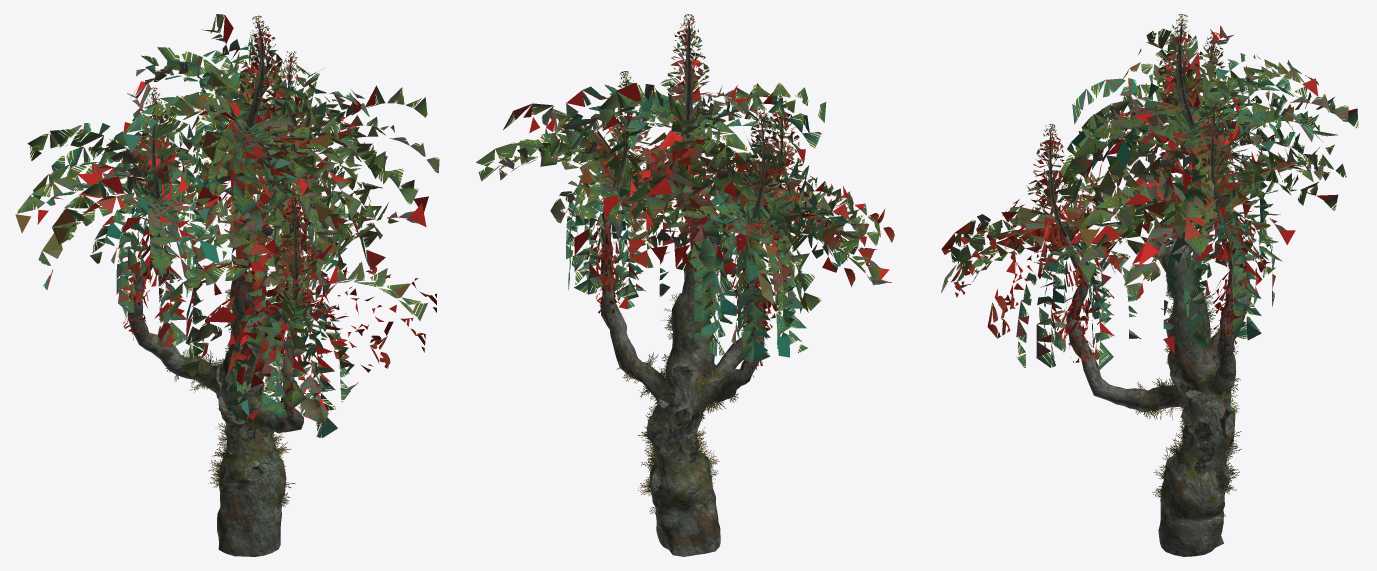
File: Plant - Alien Plant 12-D6auY3w2.glb
The picture shows the model from 3 angles, left to right: view 1: azimuth 30°, elevation 25°; view 2: azimuth 150°, elevation 25°; view 3: azimuth 270°, elevation 25°; orthographic projection.
Visible parts, largest first — view 1: Plant12(Clone), Plant12_moss(Clone); view 2: Plant12(Clone), Plant12_moss(Clone); view 3: Plant12(Clone), Plant12_moss(Clone).
Part boxes in pixels (x1,y1,x2,y2): Plant12(Clone): (15, 14, 439, 556); Plant12_moss(Clone): (165, 289, 295, 506); Plant12(Clone): (476, 14, 894, 556); Plant12_moss(Clone): (616, 291, 738, 514); Plant12(Clone): (941, 14, 1358, 556); Plant12_moss(Clone): (1134, 284, 1241, 520).
Size of the model in its own units: 11.51 by 14.85 by 11.01.
Materials: 3 (3 with a texture image).
